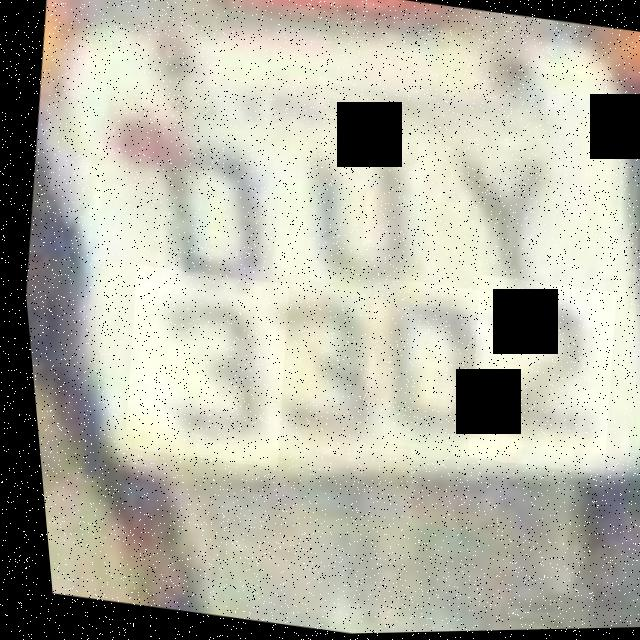0: (344, 276, 513, 462)
2: (446, 274, 624, 480)
3: (214, 265, 417, 465), (104, 263, 297, 472)
O: (128, 121, 292, 302)
U: (265, 116, 453, 302)
Y: (402, 116, 575, 306)
